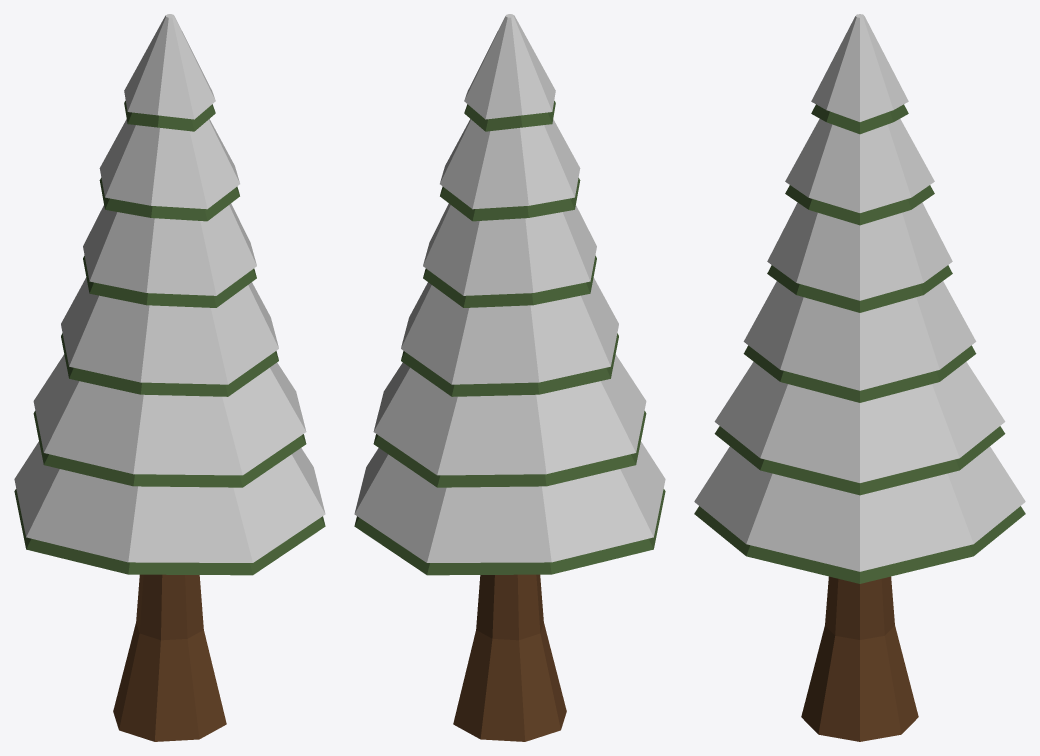
File: snow_tree.fbx
3 views of the same model, side by side, from view 1: azimuth 30°, elevation 25°; view 2: azimuth 150°, elevation 25°; view 3: azimuth 270°, elevation 25° (orthographic).
Visible parts, largest first — view 1: Cylinder; view 2: Cylinder; view 3: Cylinder.
Part boxes in pixels (<box>): Cylinder: <box>14,14,325,741</box>; Cylinder: <box>354,14,665,741</box>; Cylinder: <box>694,14,1025,741</box>.
Size of the model in its own units: 314 by 732 by 314.
